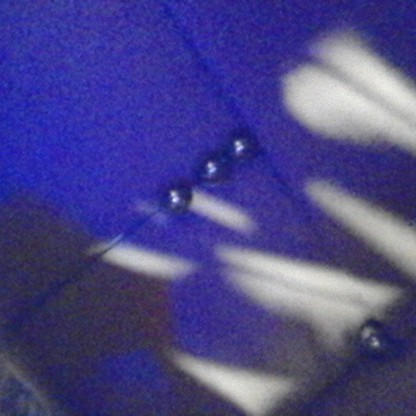ironball: (354, 311, 399, 359), (155, 180, 196, 220), (187, 151, 230, 188), (223, 126, 260, 161)
